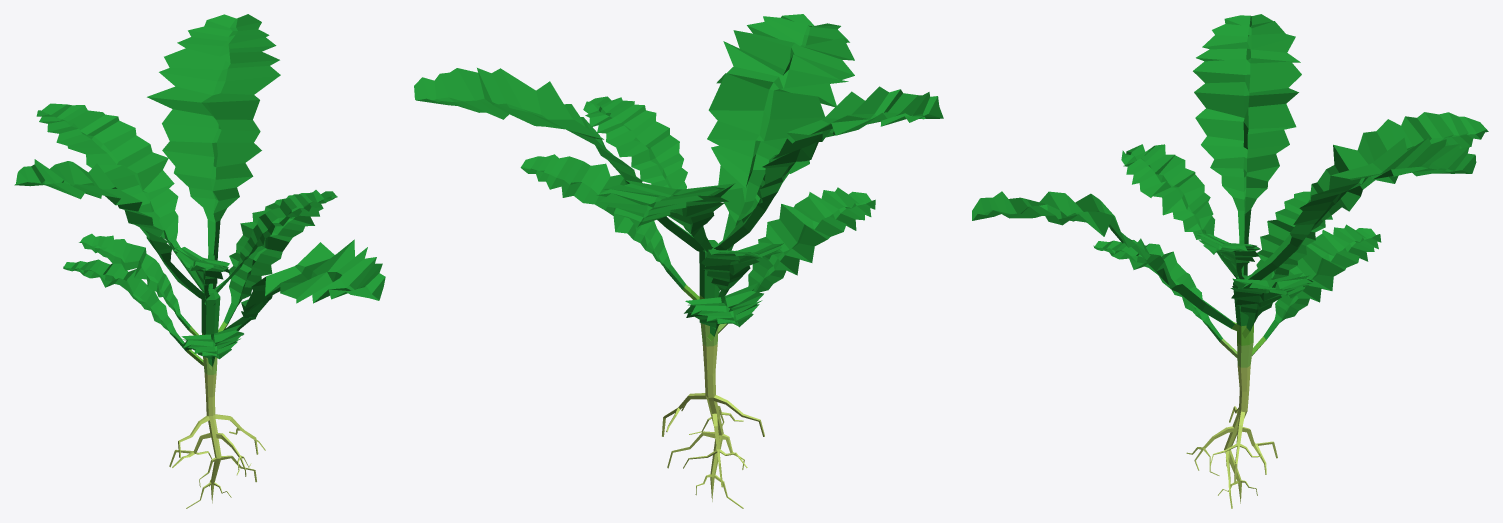
The model's file is kale_2.glb.
3 renders of one model, left to right at view 1: azimuth 30°, elevation 25°; view 2: azimuth 150°, elevation 25°; view 3: azimuth 270°, elevation 25°, orthographic. The views are drawn at different scales.
Parts seen in each view (by area): view 1: kale 2; view 2: kale 2; view 3: kale 2.
Part boxes in pixels (box(x1,y1,x2,y2)): kale 2: box(14, 14, 385, 508); kale 2: box(414, 14, 943, 508); kale 2: box(972, 14, 1488, 508).
Bounding box in the file's own units: 6.64 × 7.17 × 8.27.
1 material, 1 textured.
